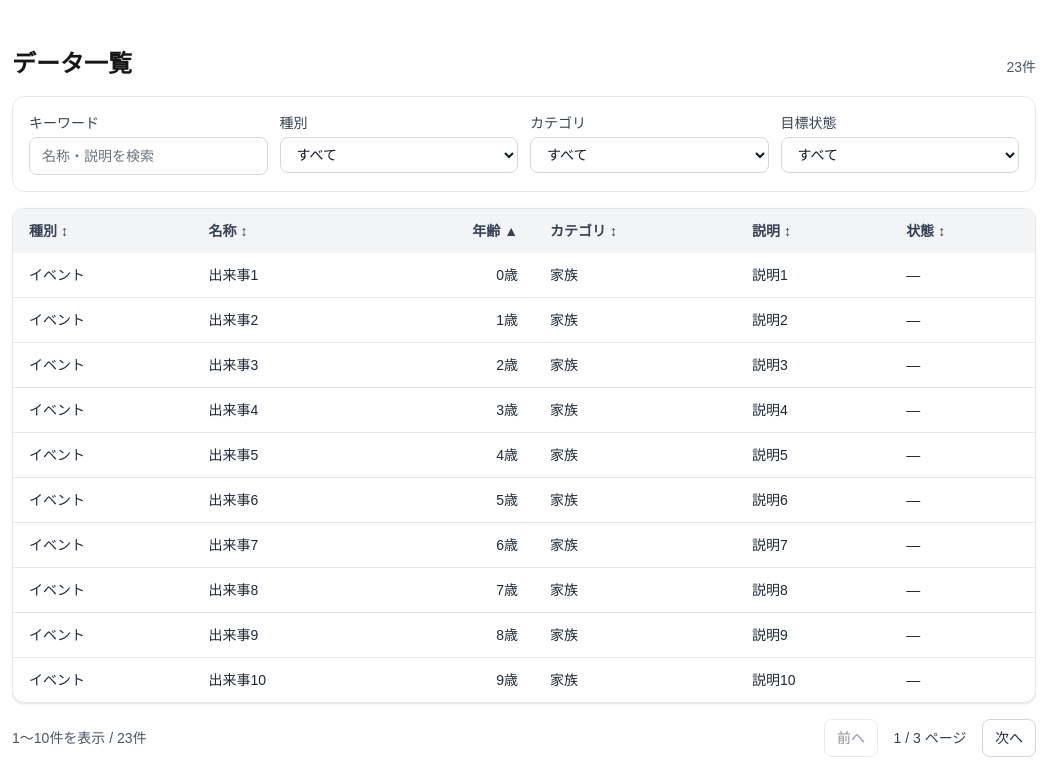
Scenario: LifeEventTable › 10件ずつページ送りでき、表示範囲とボタン状態を更新する
Expected: the text "1〜10件を表示 / 23件" is shown, [12, 728, 147, 748]
Expected: the button "前へ" is disabled, [824, 719, 878, 757]
Click the button "次へ".
click(1009, 738)  # box [982, 719, 1036, 757]
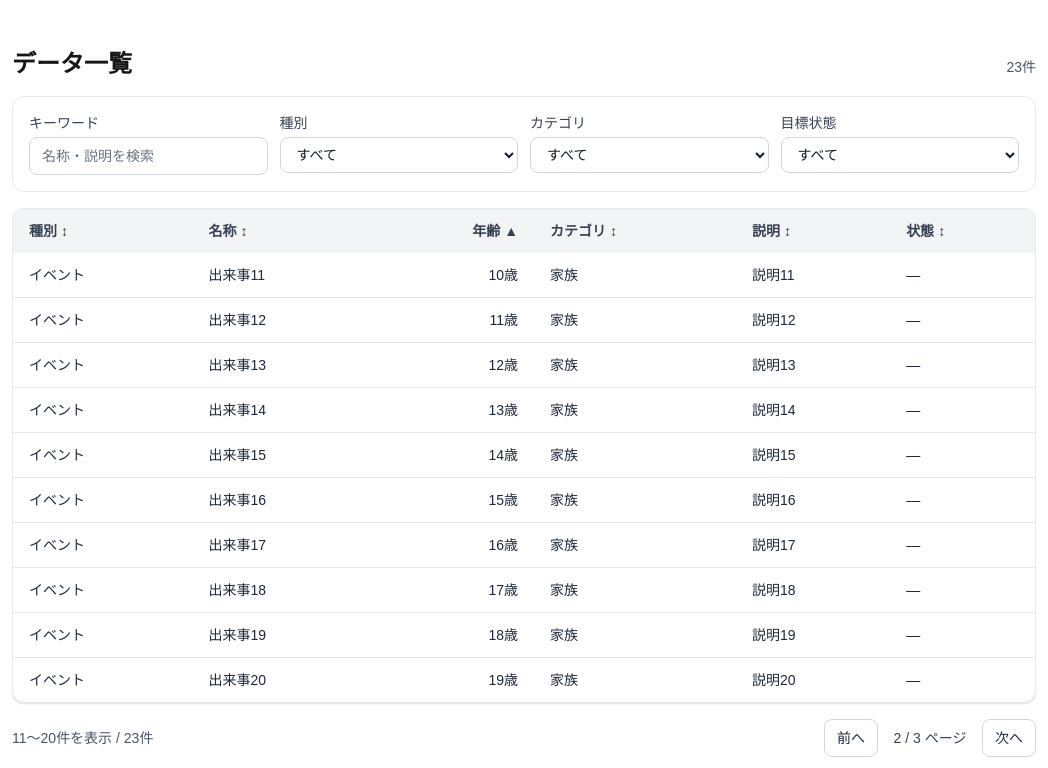
Result: the text "11〜20件を表示 / 23件" is shown at [12, 728, 153, 748]
Result: the text "出来事11" is shown at [192, 253, 375, 298]
Click the button "次へ".
click(1009, 738)  # box [982, 719, 1036, 757]
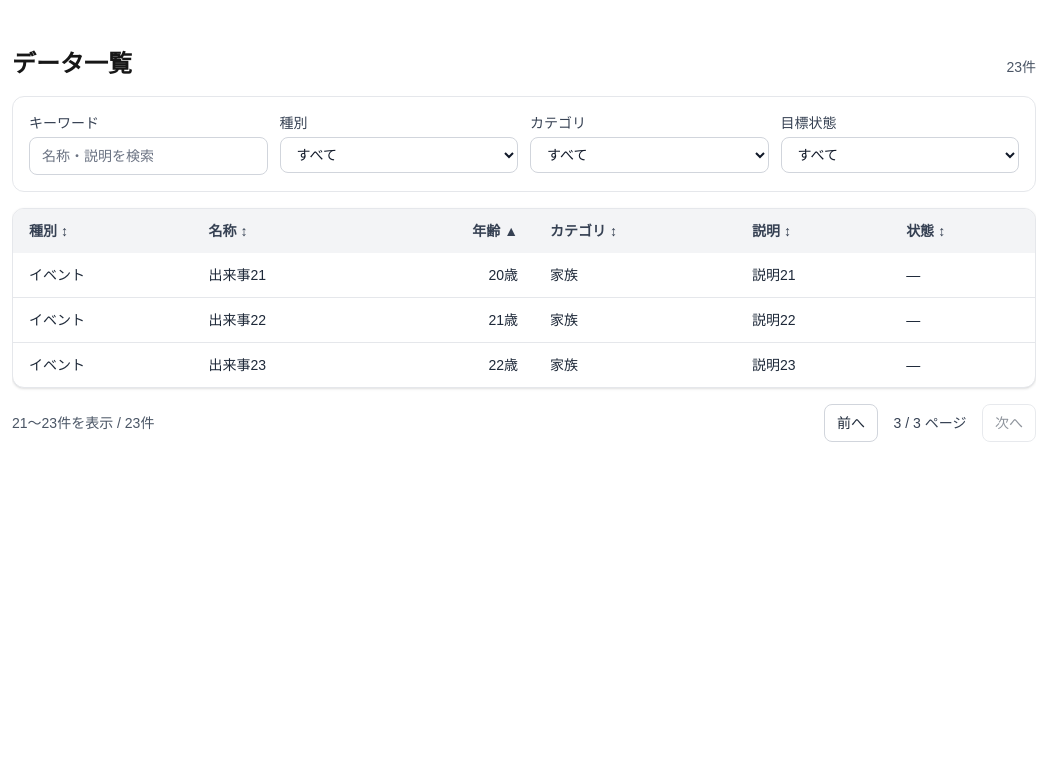
Expected: the number of rows is 4, [13, 209, 1035, 253]; [13, 253, 1035, 298]; [13, 298, 1035, 342]; [13, 342, 1035, 387]
Result: the text "21〜23件を表示 / 23件" is shown at [12, 413, 154, 433]
Result: the button "次へ" is disabled at [982, 404, 1036, 442]
Click the button "前へ".
click(851, 423)  # box [824, 404, 878, 442]
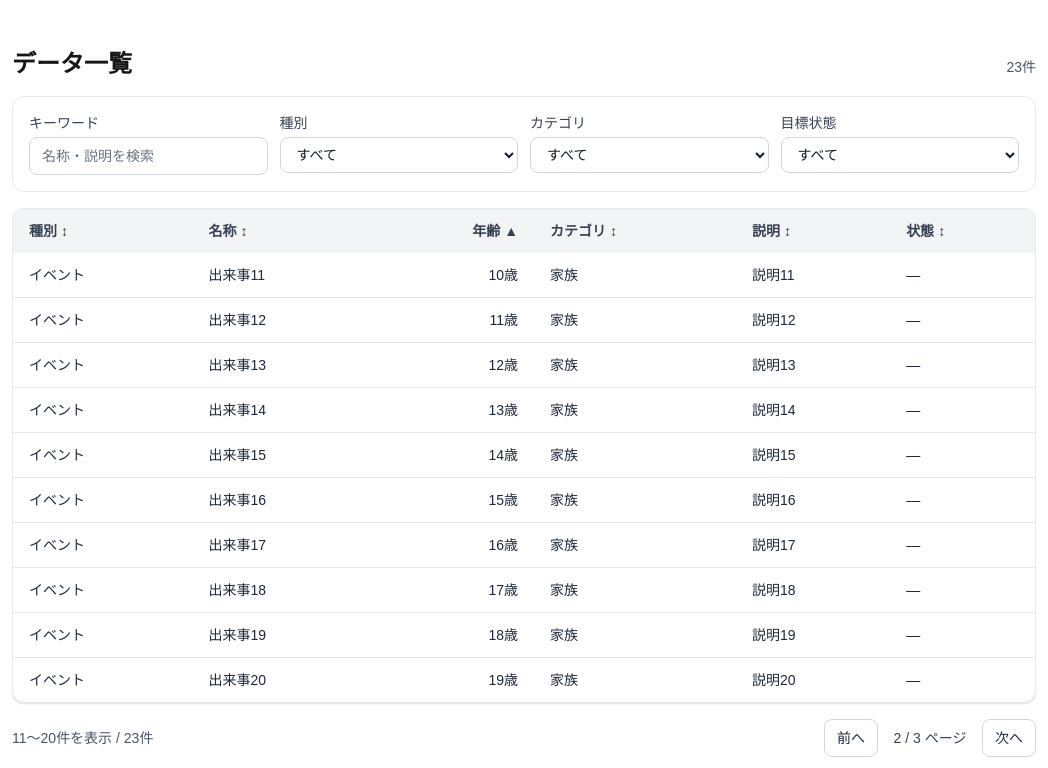
Result: the text "11〜20件を表示 / 23件" is shown at [12, 728, 153, 748]
Click the button with aria-label "名称で並べ替え".
click(284, 231)  # box [208, 221, 359, 241]
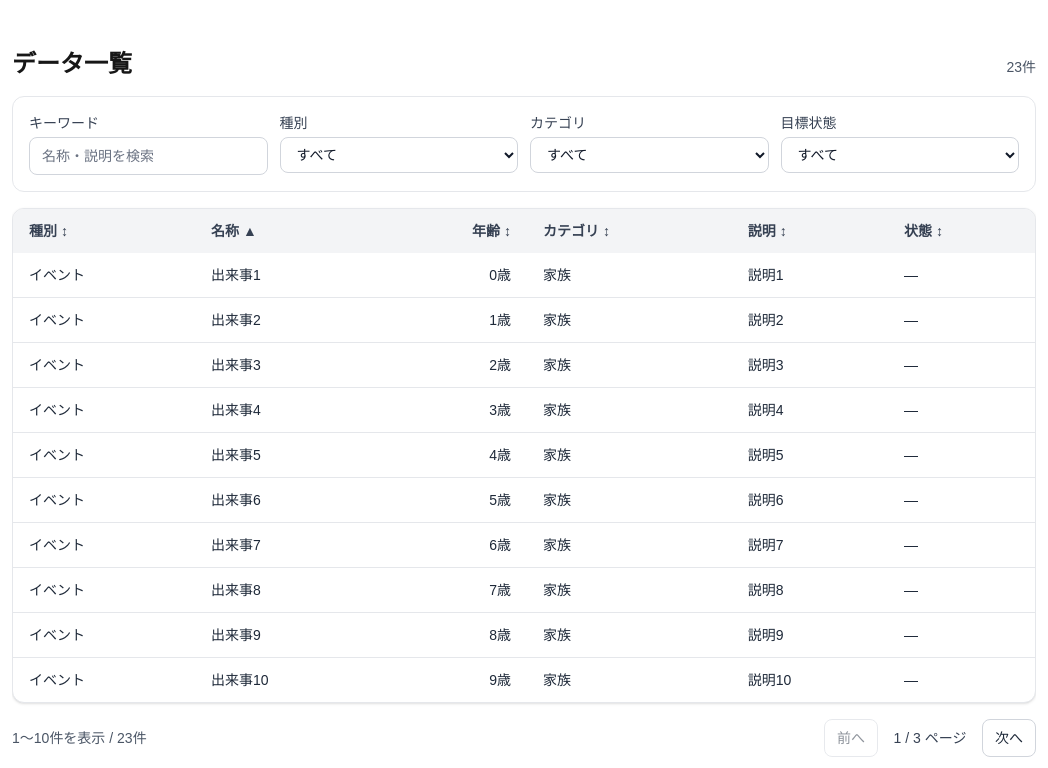
Result: the text "1〜10件を表示 / 23件" is shown at [12, 728, 147, 748]
